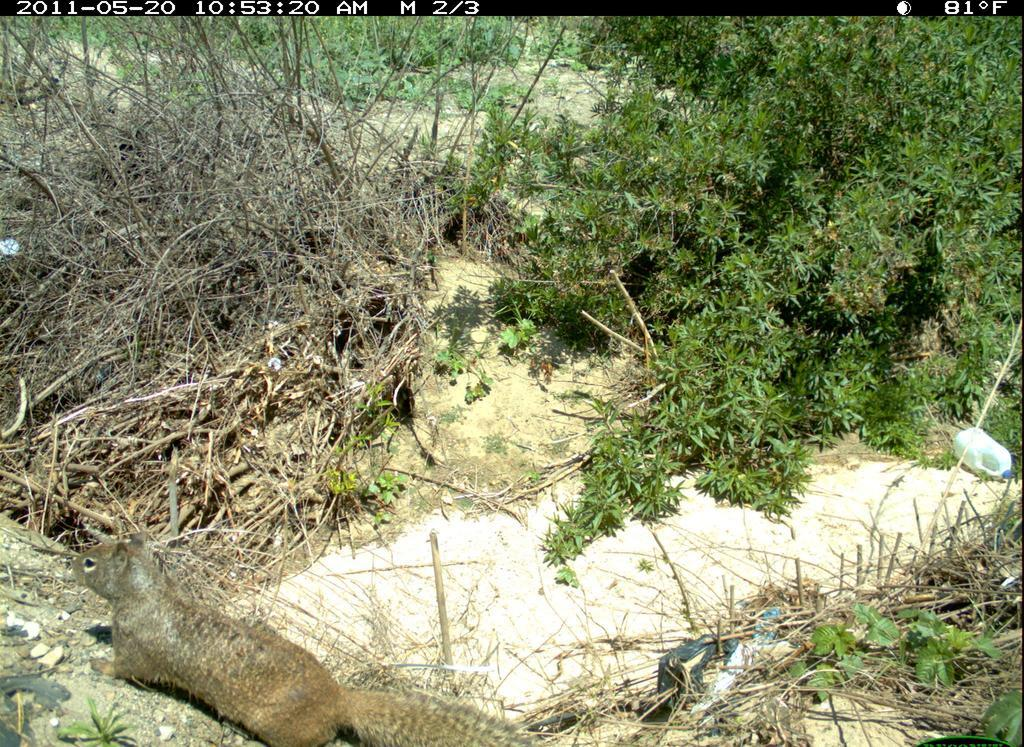squirrel: (66, 529, 524, 747)
